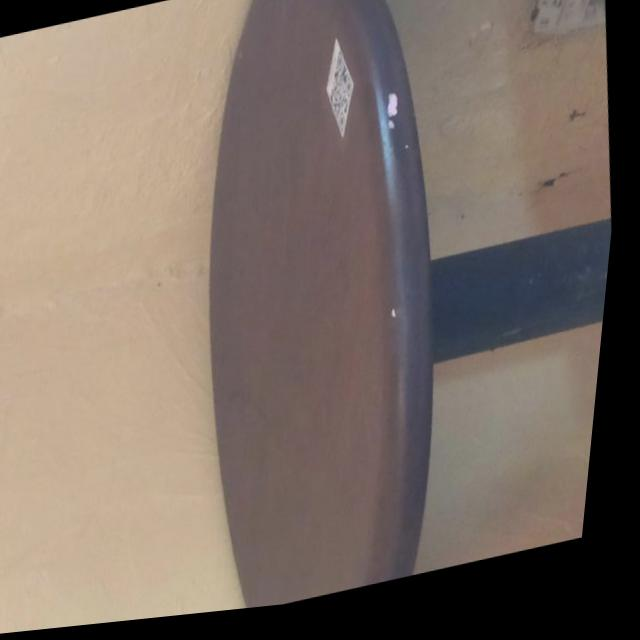qrcode: (325, 55, 363, 141)
